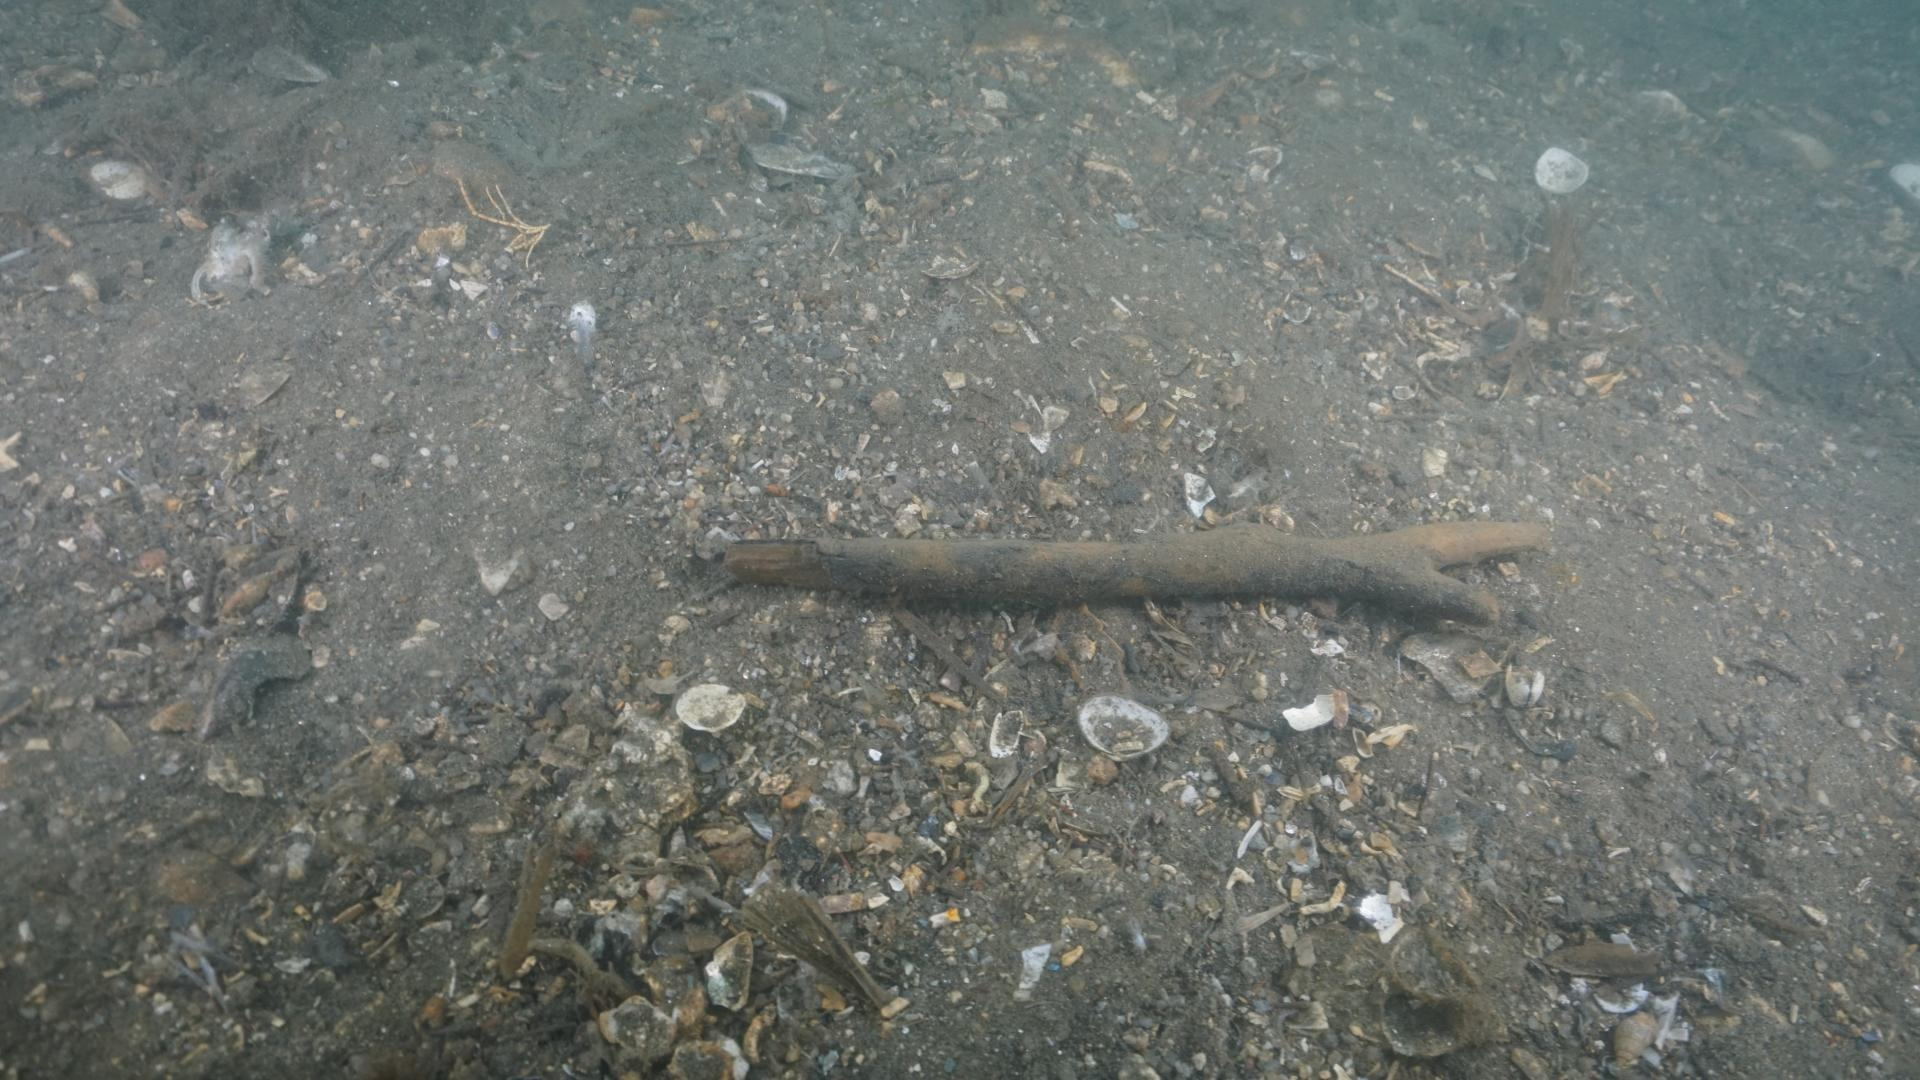wood: (720, 518, 1551, 626)
